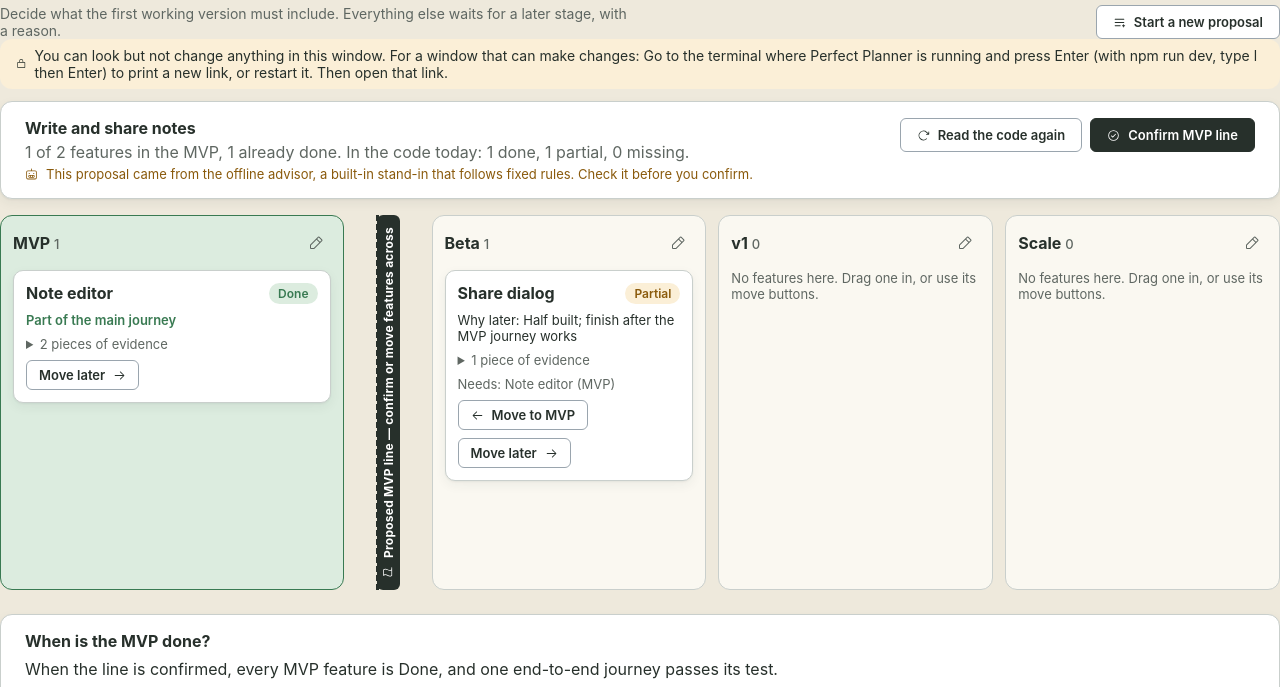
Scenario: MVP board › confirm, then shows who and when; refusal is readable
Click the button "Confirm MVP line".
click(1173, 135)  # box left=1090, top=118, right=1255, bottom=152
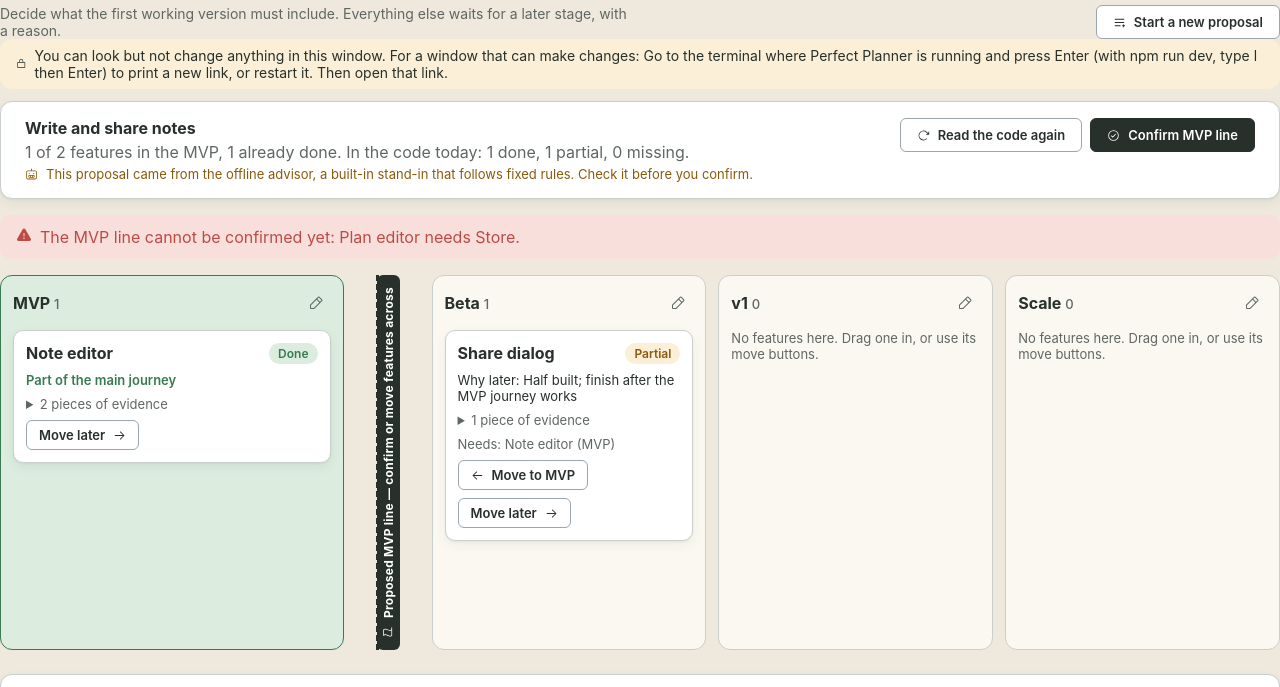
Result: the message shows "cannot be confirmed yet" at left=40, top=227, right=520, bottom=247
Click the button "Confirm MVP line".
click(1173, 135)  # box left=1090, top=118, right=1255, bottom=152
(page scrolled)
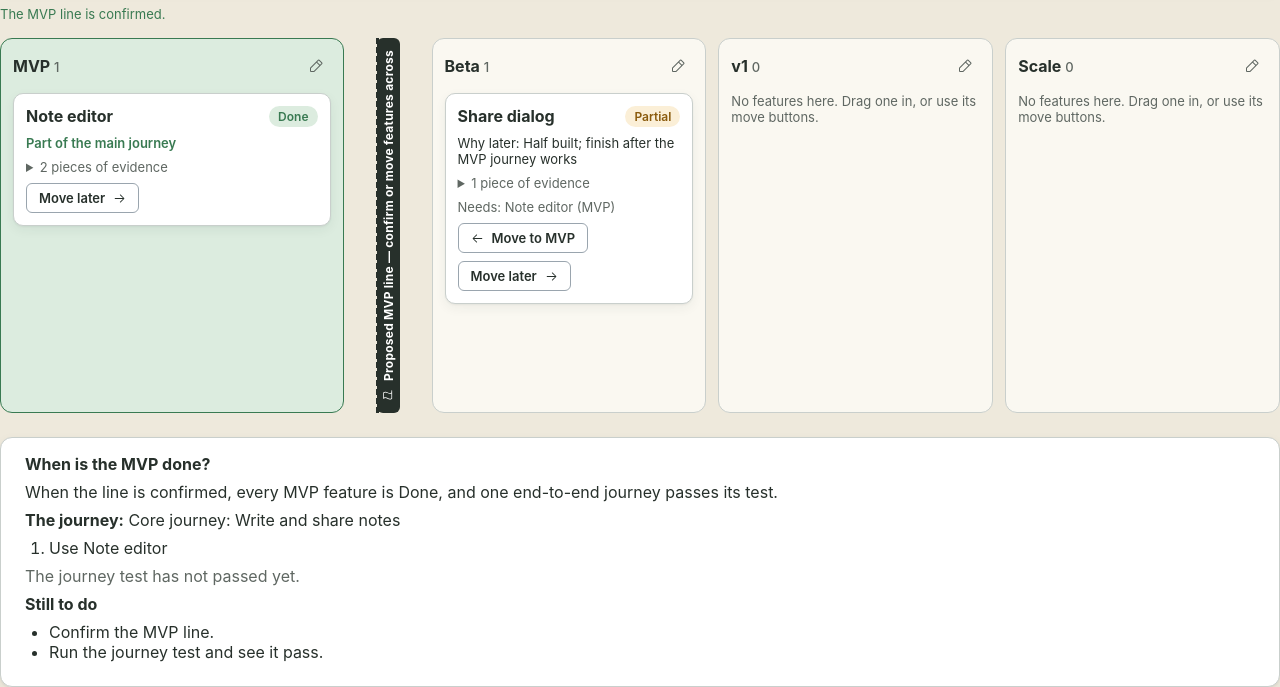
Expected: the heading "When is the MVP done?" is shown, left=25, top=454, right=210, bottom=474
Result: the button "Confirm MVP line" is gone
